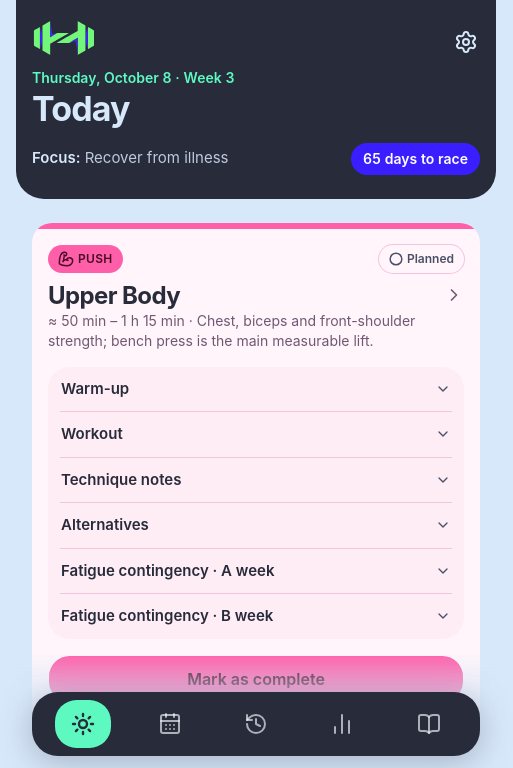
app shell › navigates between tabs
The image size is (513, 768).
Click the link named "Plan": (170, 724) left=158, top=712, right=182, bottom=736
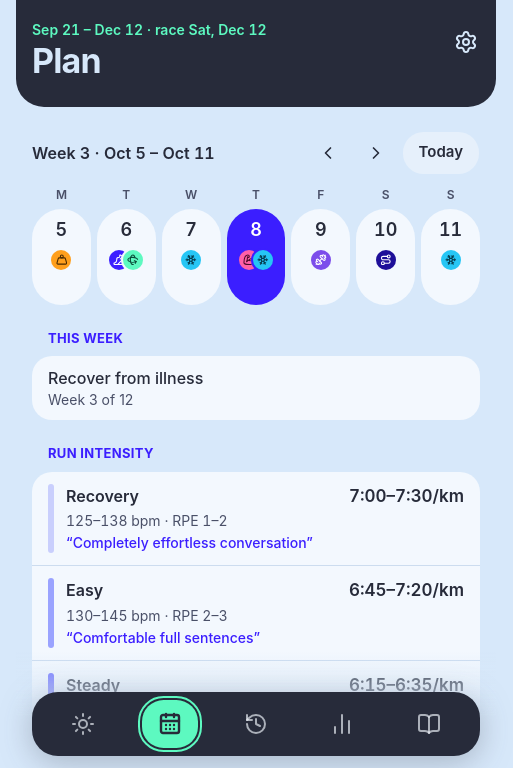
Expected: the heading "Plan" is shown, left=32, top=40, right=101, bottom=81
